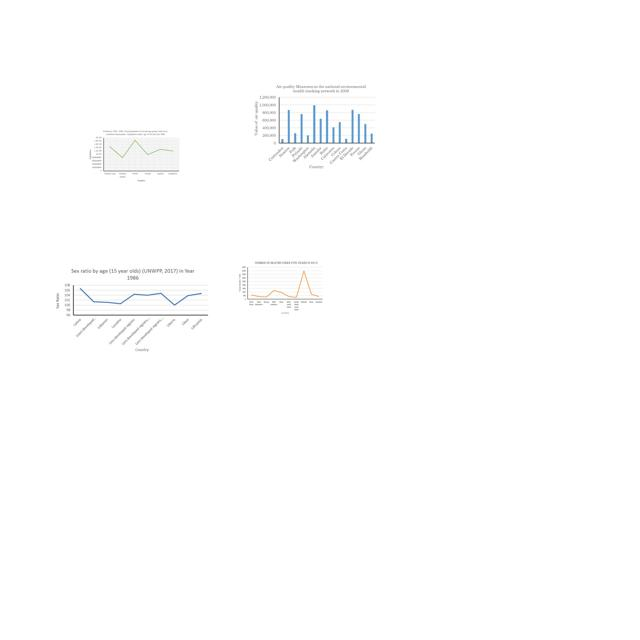Graph: (54, 265, 211, 353), (252, 82, 378, 172), (236, 259, 325, 317), (89, 129, 181, 182)
